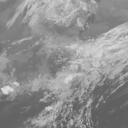cyclone: (39, 41, 99, 101)
